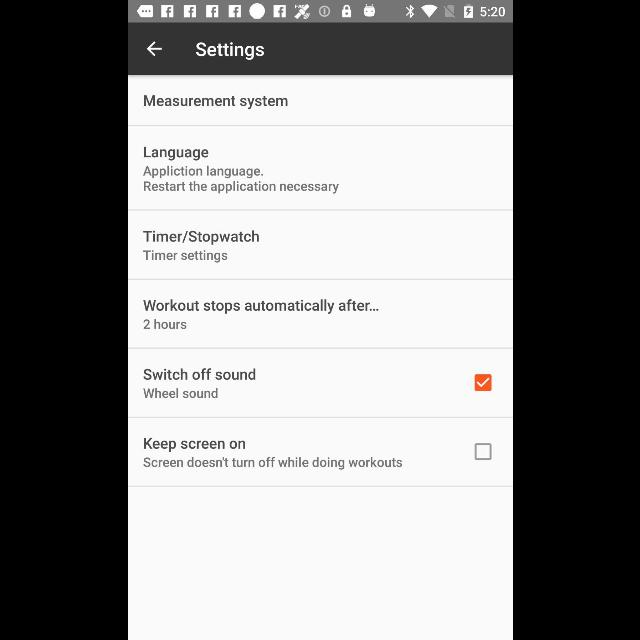checkbox: (474, 444, 491, 461), (474, 374, 491, 390)
icon: (146, 41, 162, 57)
text: (142, 166, 338, 194), (142, 456, 402, 469), (142, 300, 378, 314), (143, 96, 287, 110), (142, 231, 258, 245), (143, 438, 245, 452), (143, 368, 255, 380), (195, 42, 263, 60), (143, 250, 227, 264), (144, 147, 208, 161), (143, 388, 217, 398), (143, 318, 187, 329)
toolbar: (128, 23, 512, 75)
uppertaskbar: (128, 1, 512, 23)
